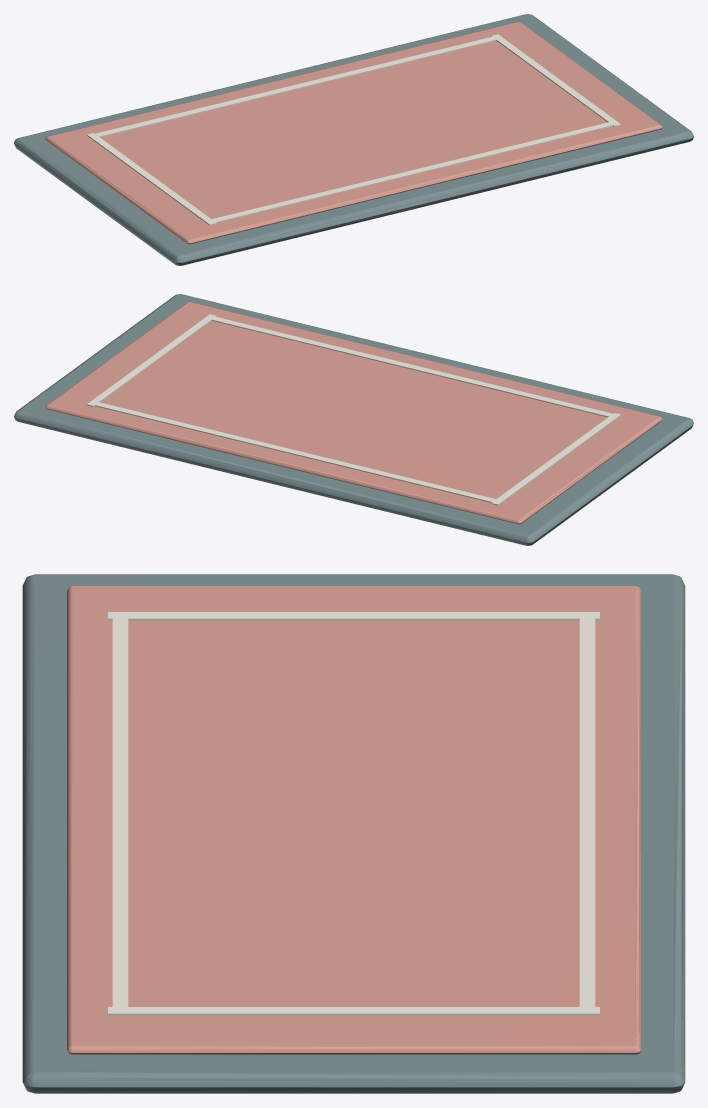
Rendered from EntranceMat.fbx.
3 views of the same model, one above another, from view 1: azimuth 30°, elevation 25°; view 2: azimuth 150°, elevation 25°; view 3: azimuth 270°, elevation 25° (orthographic). The views are drawn at different scales.
Visible parts, largest first — view 1: EntranceMat; view 2: EntranceMat; view 3: EntranceMat.
Part boxes in pixels (<box>): EntranceMat: <box>14,14,693,265</box>; EntranceMat: <box>14,294,693,545</box>; EntranceMat: <box>22,574,685,1093</box>.
Size of the model in its own units: 1.9 by 0.056 by 1.05.
